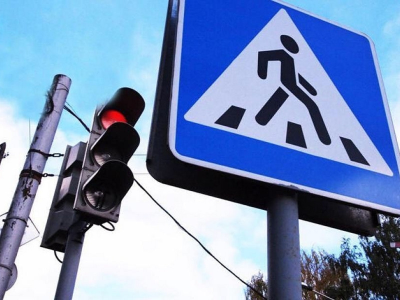crosswalk: (183, 6, 391, 172)
trafficlight_red: (93, 100, 141, 204)
